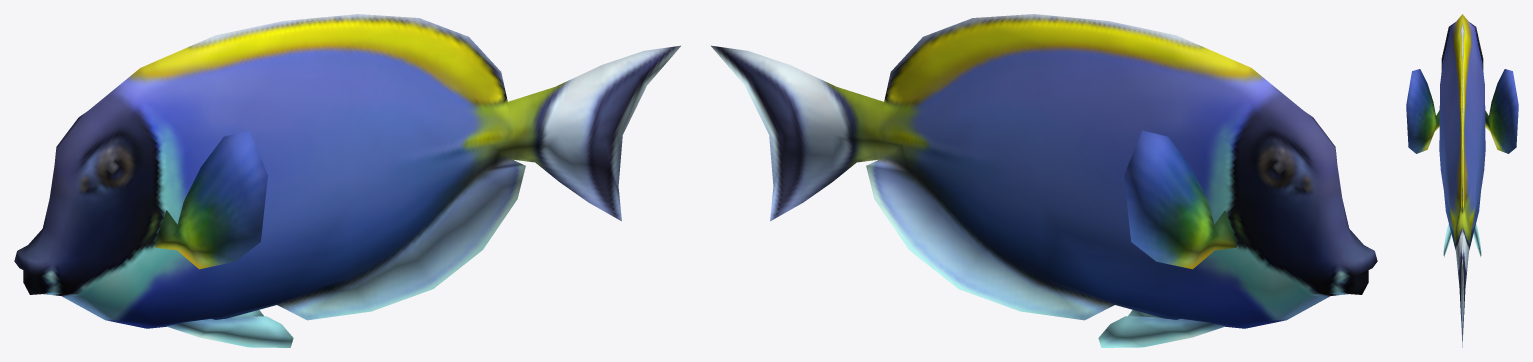
File: f09_ciweiyu.FBX
The picture shows the model from 3 angles, left to right: view 1: azimuth 30°, elevation 25°; view 2: azimuth 150°, elevation 25°; view 3: azimuth 270°, elevation 25°; orthographic projection. The views are drawn at different scales.
Visible parts, largest first — view 1: f09_ciweiyu; view 2: f09_ciweiyu; view 3: f09_ciweiyu.
Boxes of the visible parts, <box> form: f09_ciweiyu: <box>14,14,680,347</box>; f09_ciweiyu: <box>711,14,1377,347</box>; f09_ciweiyu: <box>1406,14,1518,347</box>.
Size of the model in its own units: 63.22 by 28.95 by 14.12.
1 material, 1 textured.
